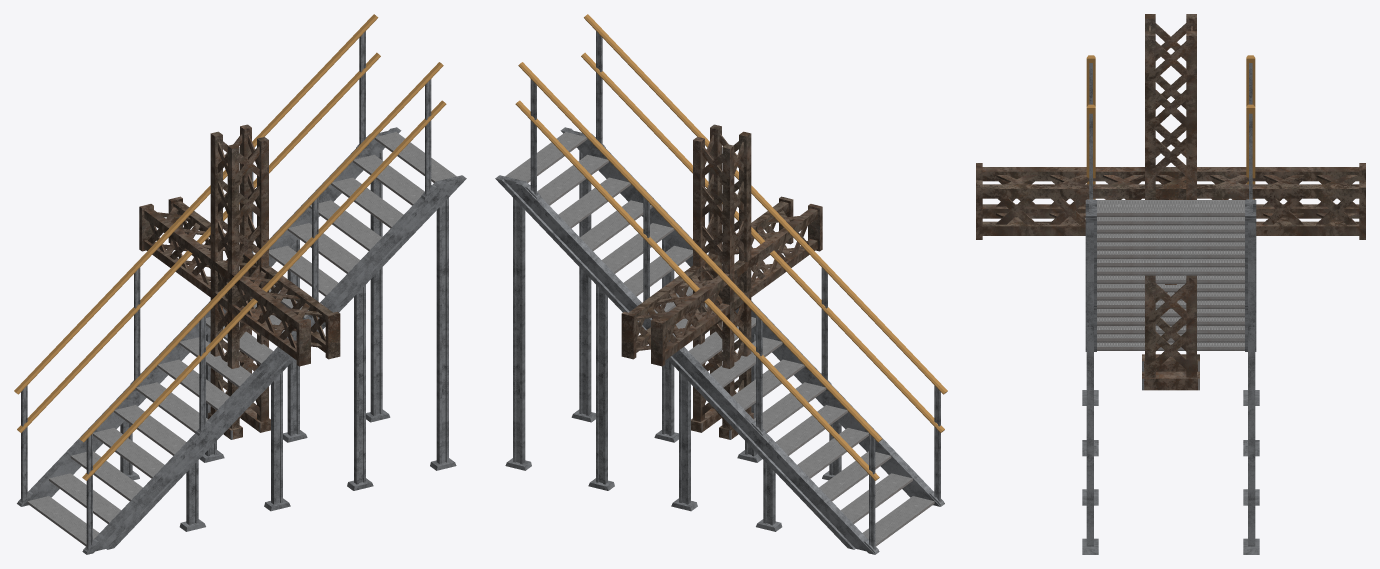
File: factory_modular_kit.glb
The picture shows the model from 3 angles, left to right: view 1: azimuth 30°, elevation 25°; view 2: azimuth 150°, elevation 25°; view 3: azimuth 270°, elevation 25°; orthographic projection. The views are drawn at different scales.
Parts seen in each view (by area): view 1: Factory_modularKit_35_Trim_metal_0, Factory_modularKit_11_Trim_metal_0, Factory_modularKit_14_Trim_metal_0; view 2: Factory_modularKit_35_Trim_metal_0, Factory_modularKit_11_Trim_metal_0, Factory_modularKit_14_Trim_metal_0; view 3: Factory_modularKit_35_Trim_metal_0, Factory_modularKit_14_Trim_metal_0, Factory_modularKit_11_Trim_metal_0.
Part boxes in pixels (x1=…): Factory_modularKit_35_Trim_metal_0: x1=14, y1=14, x2=466, y2=554; Factory_modularKit_11_Trim_metal_0: x1=207, y1=124, x2=270, y2=439; Factory_modularKit_14_Trim_metal_0: x1=139, y1=196, x2=340, y2=366; Factory_modularKit_35_Trim_metal_0: x1=495, y1=14, x2=947, y2=554; Factory_modularKit_11_Trim_metal_0: x1=691, y1=124, x2=754, y2=439; Factory_modularKit_14_Trim_metal_0: x1=621, y1=196, x2=822, y2=366; Factory_modularKit_35_Trim_metal_0: x1=1082, y1=55, x2=1259, y2=554; Factory_modularKit_14_Trim_metal_0: x1=976, y1=163, x2=1365, y2=239; Factory_modularKit_11_Trim_metal_0: x1=1142, y1=14, x2=1199, y2=390.
Size of the model in its own units: 3.47 by 3.48 by 2.5.
Materials: 1 (1 with a texture image).
